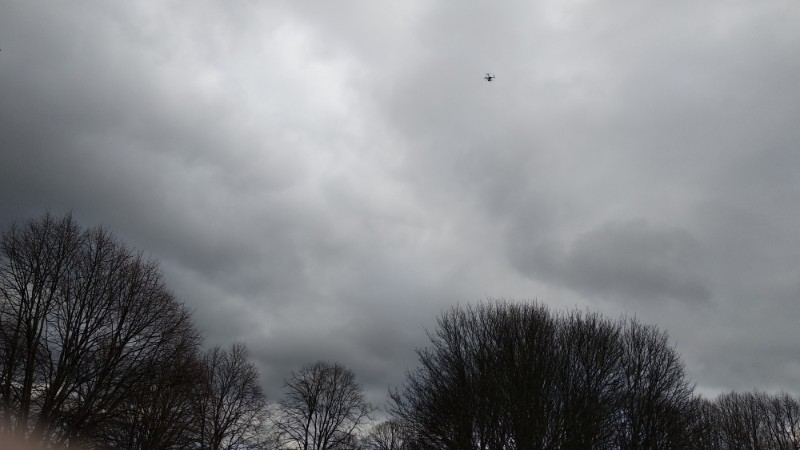drone: (484, 74, 497, 83)
